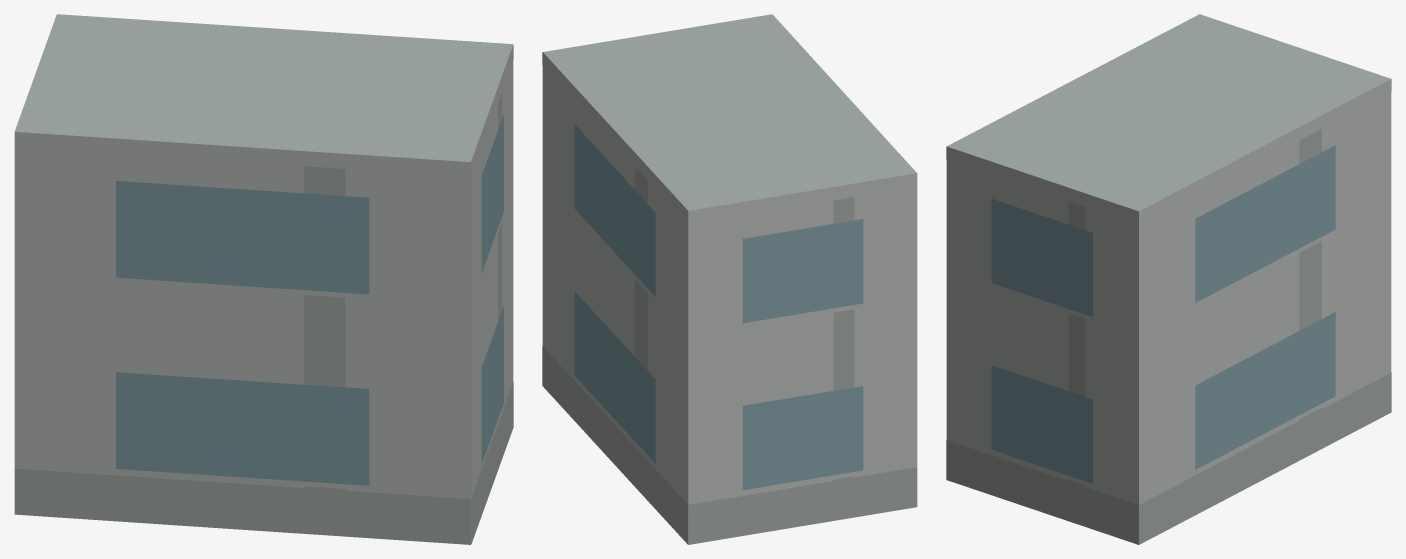
Rendered from survey-upis-32646971.glb.
The picture shows the model from 3 angles, left to right: view 1: azimuth 30°, elevation 25°; view 2: azimuth 150°, elevation 25°; view 3: azimuth 270°, elevation 25°; orthographic projection. The views are drawn at different scales.
Parts seen in each view (by area): view 1: survey-upis-32646971.tmp; view 2: survey-upis-32646971.tmp; view 3: survey-upis-32646971.tmp.
Boxes of the visible parts, bbox=[...] form: survey-upis-32646971.tmp: bbox=[14, 14, 513, 544]; survey-upis-32646971.tmp: bbox=[542, 14, 917, 544]; survey-upis-32646971.tmp: bbox=[946, 14, 1391, 544].
Bounding box in the file's own units: 7.75 × 6.1 × 7.38.
